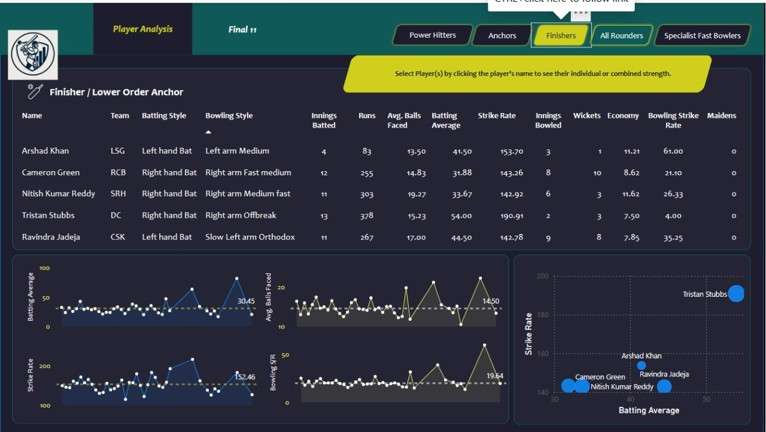

The dashboard page shown, as its layout file describes it:
{"tool":"powerbi","page":{"name":"Finishers","canvas":[1280,720],"ordinal":2},"visuals":[{"type":"shape","box":[0,82,1278,637.5],"z":0},{"type":"card","fields":{"Values":["Key_Measures.Strike Rate"]},"box":[857.3,90,93,60],"z":0,"group":"g1"},{"type":"shape","box":[84.1,132.6,260,31.2],"z":0,"group":"g2"},{"type":"card","fields":{"Values":["Key_Measures.Batting Average"]},"box":[758.3,90,92,60],"z":1000,"group":"g1"},{"type":"image","box":[37.9,130.2,44,36],"z":1000,"group":"g2"},{"type":"shape","box":[860,421.7,396.7,285],"z":1000},{"type":"card","fields":{"Values":["Key_Measures.Boundary %"]},"box":[1053.9,93.3,110,56.7],"z":2000,"group":"g1"},{"type":"shape","box":[20,421.7,831.7,283.3],"z":2000},{"type":"card","fields":{"Values":["Key_Measures.Avergate Balls Faced"]},"box":[956.3,90,101,60],"z":3000,"group":"g1"},{"type":"shape","box":[20,108.3,1236.7,305],"z":3000},{"type":"shape","box":[0,0,1278.9,87.1],"z":4000},{"type":"card","fields":{"Values":["Key_Measures.Boundary %"]},"box":[1036.7,88.3,110,56.7],"z":5000},{"type":"card","fields":{"Values":["Key_Measures.Avergate Balls Faced"]},"box":[913.3,88.3,100,60],"z":6000},{"type":"tableEx","fields":{"Values":["player_info.name","player_info.team","player_info.battingStyle","player_info.bowlingStyle","Key_Measures.Total Matches","Key_Measures.Total Runs","Key_Measures.Average Balls Faced","Key_Measures.Batting Average","Key_Measures.Strike Rate","Key_Measures.Total Innings Bowled","Key_Measures.Wickets","Key_Measures.Bowling Economy"]},"box":[26.5,166.3,1230.2,255.1],"z":7000},{"type":"areaChart","fields":{"Category":["match_summary.matchDate.Variation.Date Hierarchy.Year","match_summary.matchDate.Variation.Date Hierarchy.Quarter","match_summary.matchDate.Variation.Date Hierarchy.Month","match_summary.matchDate.Variation.Date Hierarchy.Day"],"Y":["Key_Measures.Batting Average"]},"box":[40,428.9,395.6,126.7],"z":8000},{"type":"areaChart","fields":{"Y":["Key_Measures.Strike Rate"],"Category":["match_summary.matchDate.Variation.Date Hierarchy.Year","match_summary.matchDate.Variation.Date Hierarchy.Quarter","match_summary.matchDate.Variation.Date Hierarchy.Month","match_summary.matchDate.Variation.Date Hierarchy.Day"]},"box":[40,560,396.2,126.2],"z":9000},{"type":"areaChart","fields":{"Category":["match_summary.matchDate.Variation.Date Hierarchy.Year","match_summary.matchDate.Variation.Date Hierarchy.Quarter","match_summary.matchDate.Variation.Date Hierarchy.Month","match_summary.matchDate.Variation.Date Hierarchy.Day"],"Y":["Key_Measures.Avergate Balls Faced"]},"box":[438.8,428.8,406.2,126.2],"z":10000},{"type":"scatterChart","fields":{"Y":["Key_Measures.Strike Rate"],"X":["Key_Measures.Batting Average"],"Category":["player_info.name"],"Size":["Key_Measures.Total Runs"]},"box":[871.2,442.2,385.5,251.3],"z":11000},{"type":"shape","box":[572,88,622,63],"z":12000},{"type":"group","id":"g1","title":"Combined Perfoamce Metrices","box":[758.3,90,405,60],"z":13000},{"type":"shape","box":[591,103,173,34],"z":14000},{"type":"shape","box":[612,100,560,36],"z":15000},{"type":"group","id":"g2","title":"Group 2","box":[37.9,130.2,305.9,36.3],"z":16000},{"type":"areaChart","fields":{"Y":["Key_Measures.Bowling Strike Rate"],"Category":["match_summary.matchDate.Variation.Date Hierarchy.Year","match_summary.matchDate.Variation.Date Hierarchy.Quarter","match_summary.matchDate.Variation.Date Hierarchy.Month","match_summary.matchDate.Variation.Date Hierarchy.Day"]},"box":[446,556,406,126],"z":17000},{"type":"actionButton","title":"Button Player Ana selected","box":[156.3,0,165.4,86.5],"z":18000},{"type":"actionButton","box":[784.6,32.5,111,42],"z":19000},{"type":"actionButton","box":[651.1,32.9,144.2,41],"z":20000},{"type":"actionButton","box":[888.6,32.5,101,42],"z":21000},{"type":"actionButton","box":[982.6,32.5,115,42],"z":22000},{"type":"actionButton","box":[1089.6,32.5,171,42],"z":23000},{"type":"image","box":[0,39.8,109.8,93.8],"z":24000},{"type":"actionButton","title":"Button Player Ana selected","box":[321.8,1.5,167,85],"z":25000}]}

Visuals, with their boxes in screenshot pixels (x1, y1, x2, y2), scaled from the page's 1280x720 canvas onto the 766x432 screenshot:
shape: 0 49 765 431
card - Key_Measures.Strike Rate: 513 54 569 90
shape: 50 80 206 98
card - Key_Measures.Batting Average: 454 54 509 90
image: 23 78 49 100
shape: 515 253 752 424
card - Key_Measures.Boundary %: 631 56 697 90
shape: 12 253 510 423
card - Key_Measures.Avergate Balls Faced: 572 54 633 90
shape: 12 65 752 248
shape: 0 0 765 52
card - Key_Measures.Boundary %: 620 53 686 87
card - Key_Measures.Avergate Balls Faced: 547 53 606 89
tableEx - player_info.name x player_info.team: 16 100 752 253
areaChart - match_summary.matchDate.Variation.Date Hierarchy.Year x match_summary.matchDate.Variation.Date Hierarchy.Quarter: 24 257 261 333
areaChart - Key_Measures.Strike Rate x match_summary.matchDate.Variation.Date Hierarchy.Year: 24 336 261 412
areaChart - match_summary.matchDate.Variation.Date Hierarchy.Year x match_summary.matchDate.Variation.Date Hierarchy.Quarter: 263 257 506 333
scatterChart - Key_Measures.Strike Rate x Key_Measures.Batting Average: 521 265 752 416
shape: 342 53 715 91
"Combined Perfoamce Metrices" group: 454 54 696 90
shape: 354 62 457 82
shape: 366 60 701 82
"Group 2" group: 23 78 206 100
areaChart - Key_Measures.Bowling Strike Rate x match_summary.matchDate.Variation.Date Hierarchy.Year: 267 334 510 409
"Button Player Ana selected" actionButton: 94 0 193 52
actionButton: 470 20 536 45
actionButton: 390 20 476 44
actionButton: 532 20 592 45
actionButton: 588 20 657 45
actionButton: 652 20 754 45
image: 0 24 66 80
"Button Player Ana selected" actionButton: 193 1 293 52
